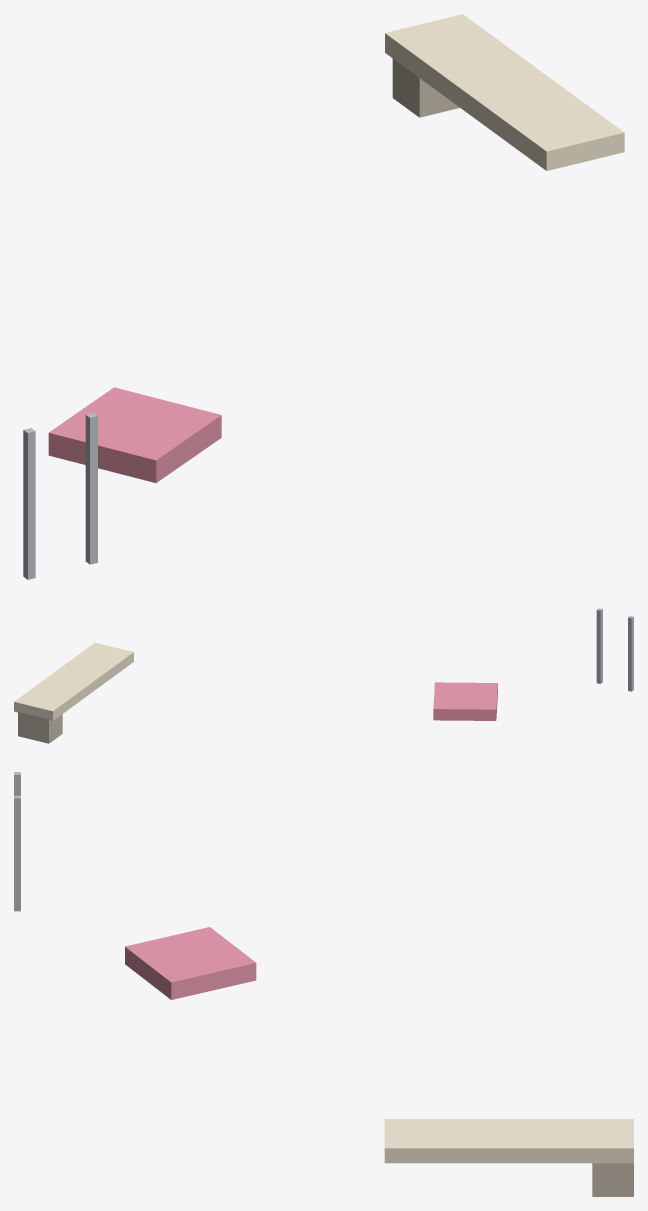
The model's file is obriens_swimming_pool.glb.
3 views of the same model, one above another, from view 1: azimuth 30°, elevation 25°; view 2: azimuth 150°, elevation 25°; view 3: azimuth 270°, elevation 25° (orthographic). The views are drawn at different scales.
Parts seen in each view (by area): view 1: Box1, Box5, Box3, Box4, Box2; view 2: Box1, Box5, Box2, Box4, Box3; view 3: Box1, Box5, Box2, Box4.
Boxes of the visible parts, x1,y1,x2,y2 form: Box1: (385, 14, 624, 170); Box5: (48, 387, 221, 482); Box3: (23, 428, 35, 579); Box4: (85, 413, 97, 564); Box2: (392, 58, 459, 117); Box1: (14, 642, 133, 720); Box5: (433, 682, 497, 720); Box2: (18, 712, 62, 743); Box4: (596, 608, 602, 683); Box3: (628, 616, 633, 691); Box1: (384, 1119, 633, 1163); Box5: (125, 927, 256, 999); Box2: (592, 1163, 633, 1196); Box4: (14, 795, 20, 911).
Bounding box in the file's own units: 5.38 × 0.93 × 4.48.
